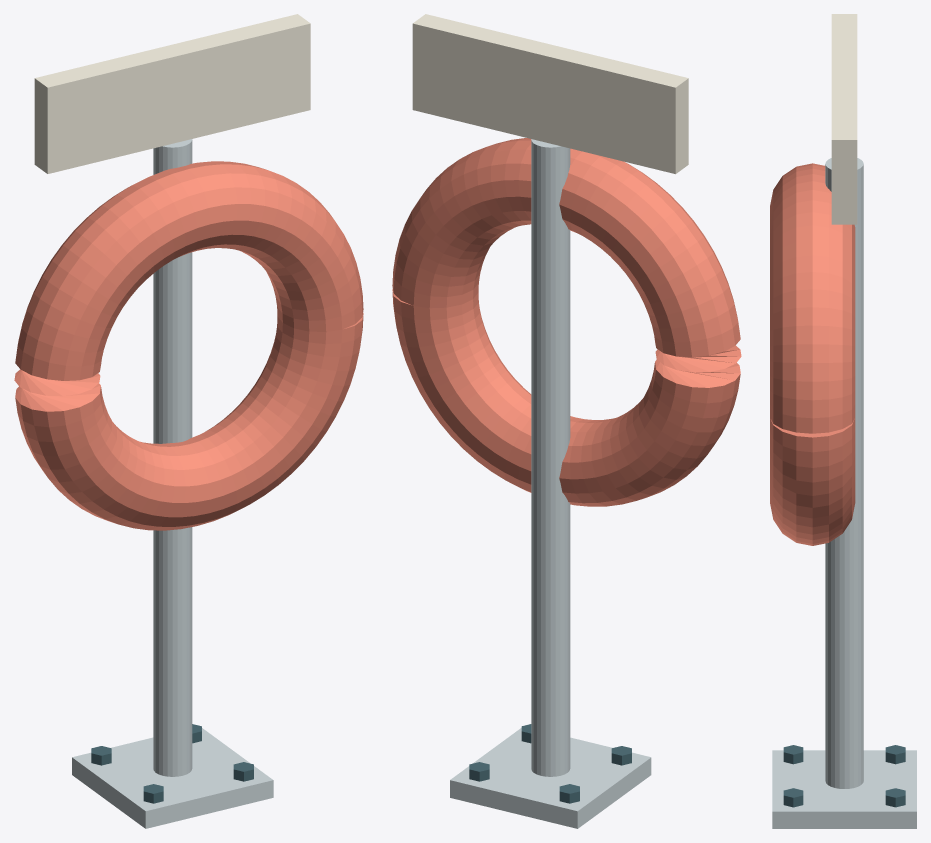
File: waterpark-and-pool-operations-waterpark-and-pool-opera-3d84d4fe__28963.glb
The picture shows the model from 3 angles, left to right: view 1: azimuth 30°, elevation 25°; view 2: azimuth 150°, elevation 25°; view 3: azimuth 270°, elevation 25°; orthographic projection.
Parts seen in each view (by area): view 1: waterpark-and-pool-operations-lifebuoy-stand; view 2: waterpark-and-pool-operations-lifebuoy-stand; view 3: waterpark-and-pool-operations-lifebuoy-stand.
Boxes of the visible parts, x1=… form: waterpark-and-pool-operations-lifebuoy-stand: x1=14, y1=14, x2=363, y2=828; waterpark-and-pool-operations-lifebuoy-stand: x1=392, y1=14, x2=741, y2=828; waterpark-and-pool-operations-lifebuoy-stand: x1=770, y1=14, x2=916, y2=828.
Size of the model in its own units: 0.8999 by 1.87 by 0.345.
